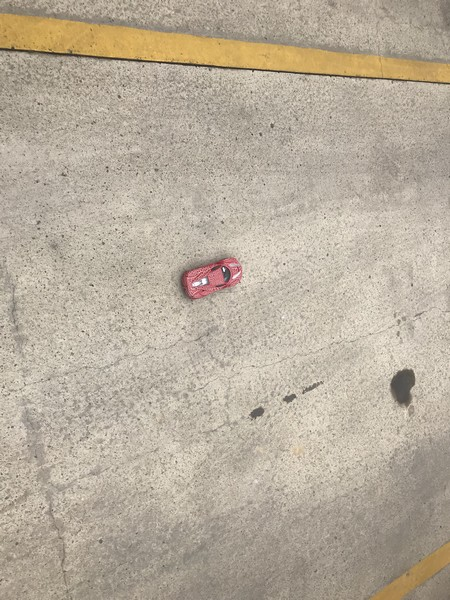RC: (180, 255, 244, 302)
